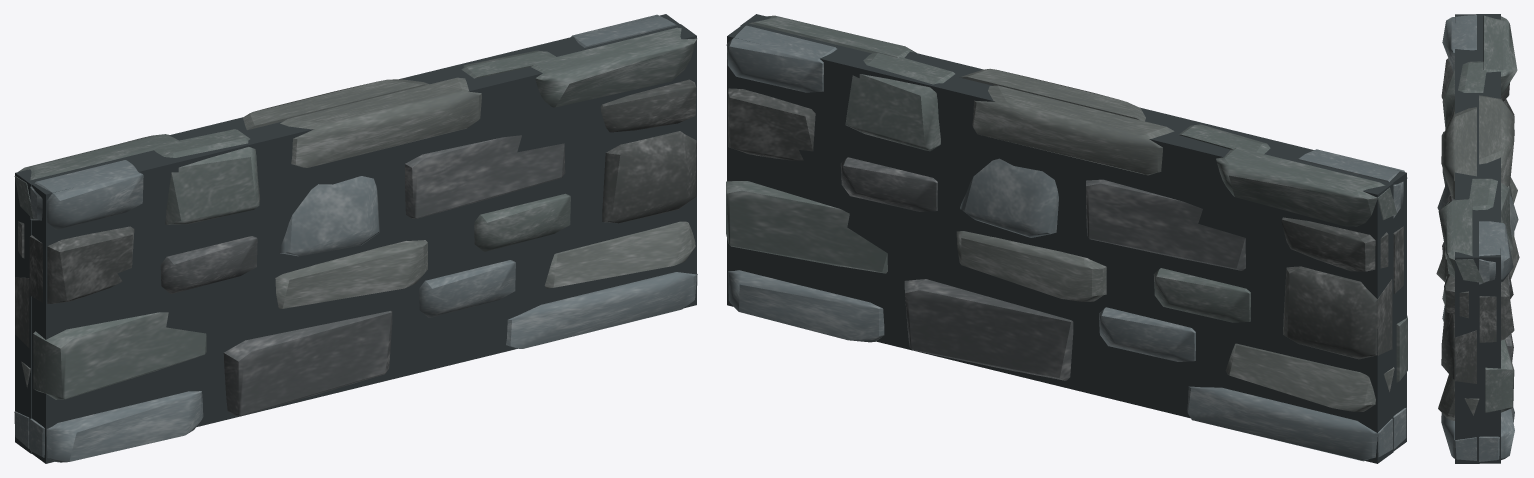
File: murderock.fbx
The picture shows the model from 3 angles, left to right: view 1: azimuth 30°, elevation 25°; view 2: azimuth 150°, elevation 25°; view 3: azimuth 270°, elevation 25°; orthographic projection. The views are drawn at different scales.
Parts seen in each view (by area): view 1: murderick:mur2; view 2: murderick:mur2; view 3: murderick:mur2.
Part boxes in pixels (<box>): murderick:mur2: <box>14,14,697,463</box>; murderick:mur2: <box>726,14,1407,463</box>; murderick:mur2: <box>1436,14,1519,463</box>.
Size of the model in its own units: 347 by 138 by 49.76.
1 material, 1 textured.
